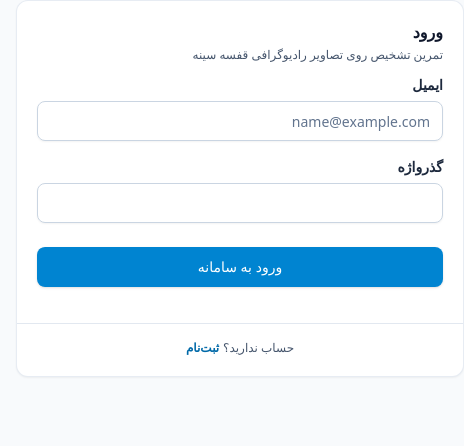
Auth Pages › LoginPage › shows client-side validation error on empty submit
Click the button "ورود به سامانه": x=240, y=267 [37,247,443,287]
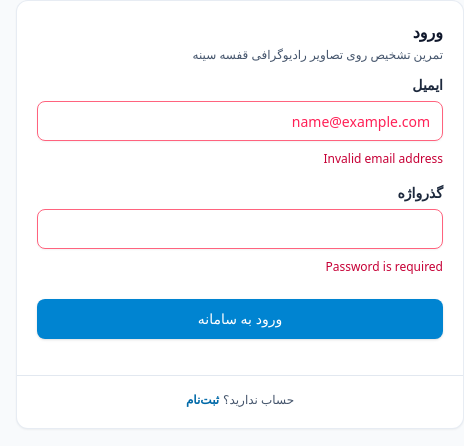
Expected: the text "Invalid email address" is shown, [324,150,443,167]
